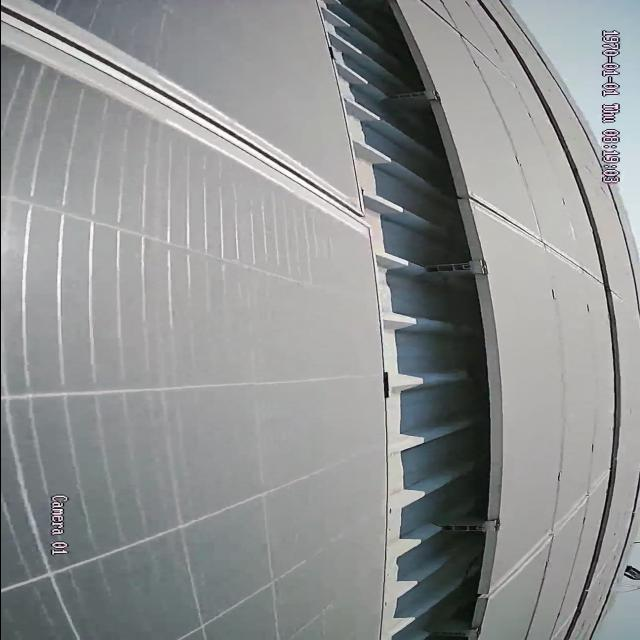interior panel: (20, 2, 350, 234), (496, 476, 598, 602), (483, 196, 591, 285)
outher panel: (317, 0, 496, 635)
